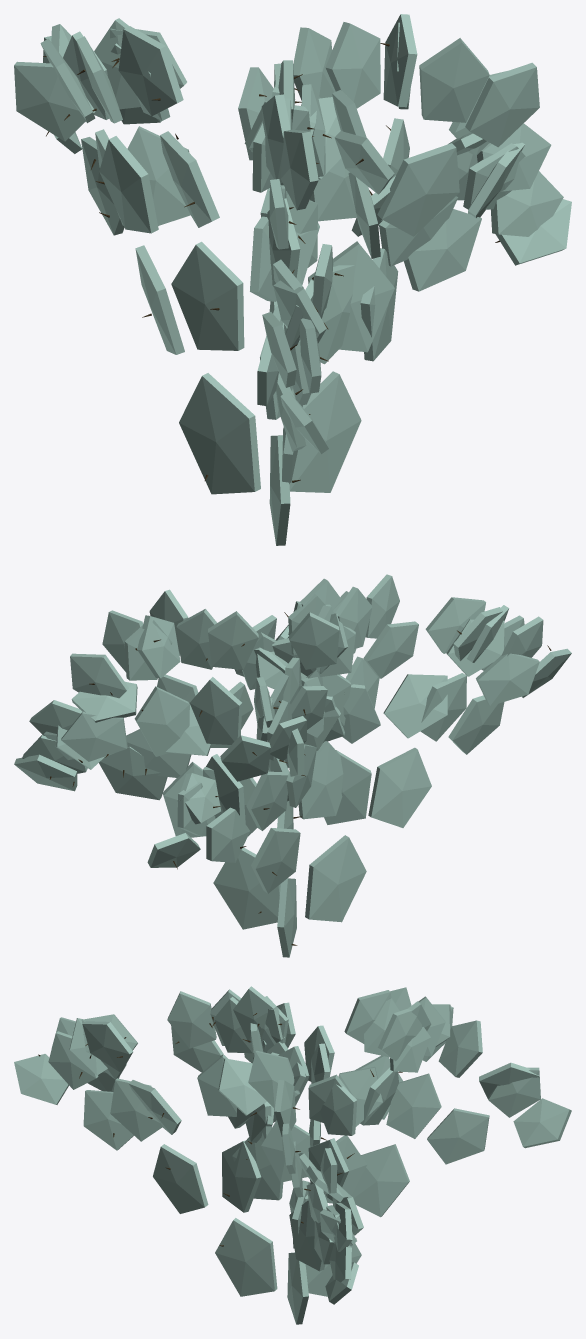
Rendered from prickly_pear_v01_LOD1.glb.
The picture shows the model from 3 angles, top to bottom: view 1: azimuth 30°, elevation 25°; view 2: azimuth 150°, elevation 25°; view 3: azimuth 270°, elevation 25°; orthographic projection. The views are drawn at different scales.
Parts seen in each view (by area): view 1: prickly_pear_v01_LOD1; view 2: prickly_pear_v01_LOD1; view 3: prickly_pear_v01_LOD1.
Boxes of the visible parts, box(x1,y1,x2,y2) form: prickly_pear_v01_LOD1: box(14, 14, 571, 545); prickly_pear_v01_LOD1: box(14, 574, 571, 957); prickly_pear_v01_LOD1: box(14, 986, 571, 1324).
Size of the model in its own units: 0.7613 by 0.6655 by 1.08.
2 materials, 1 textured.
